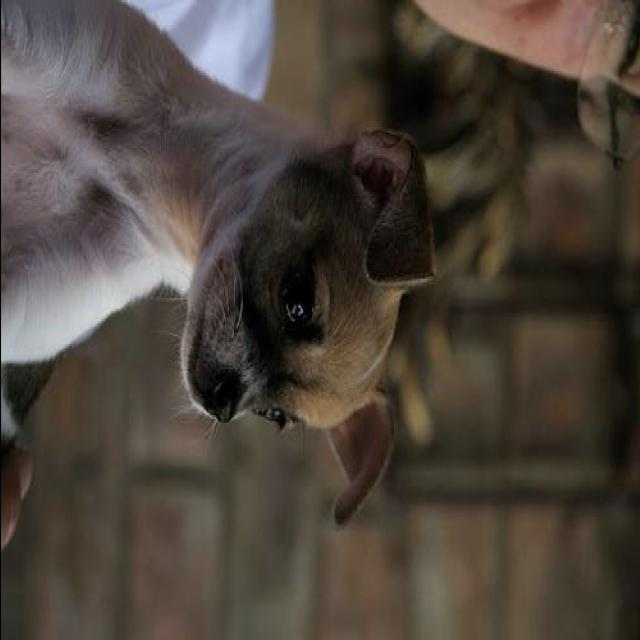chihuahua: (2, 4, 444, 525)
